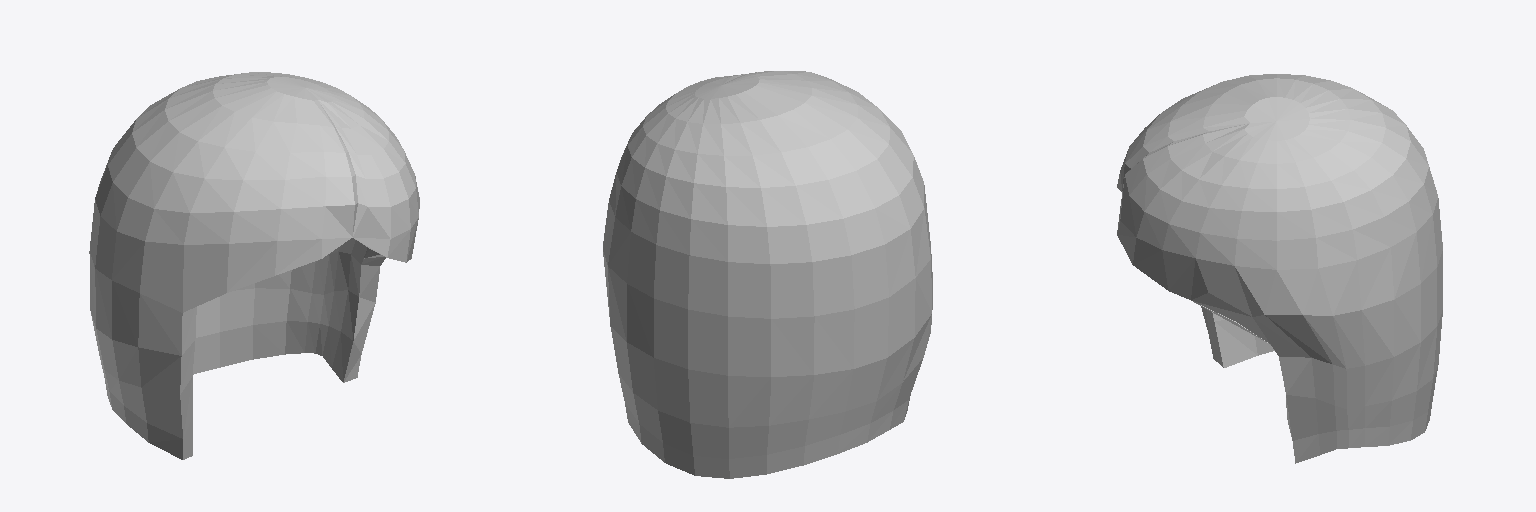
File: rogueHairA.obj
3 views of the same model, side by side, from view 1: azimuth 30°, elevation 25°; view 2: azimuth 150°, elevation 25°; view 3: azimuth 270°, elevation 25° (orthographic).
Visible parts, largest first — view 1: rogueHairA_Cube.3523; view 2: rogueHairA_Cube.3523; view 3: rogueHairA_Cube.3523.
Boxes of the visible parts, x1,y1,x2,y2 form: rogueHairA_Cube.3523: [89, 72, 419, 459]; rogueHairA_Cube.3523: [603, 71, 932, 478]; rogueHairA_Cube.3523: [1117, 74, 1442, 463].
Size of the model in its own units: 1.12 by 1.22 by 1.09.